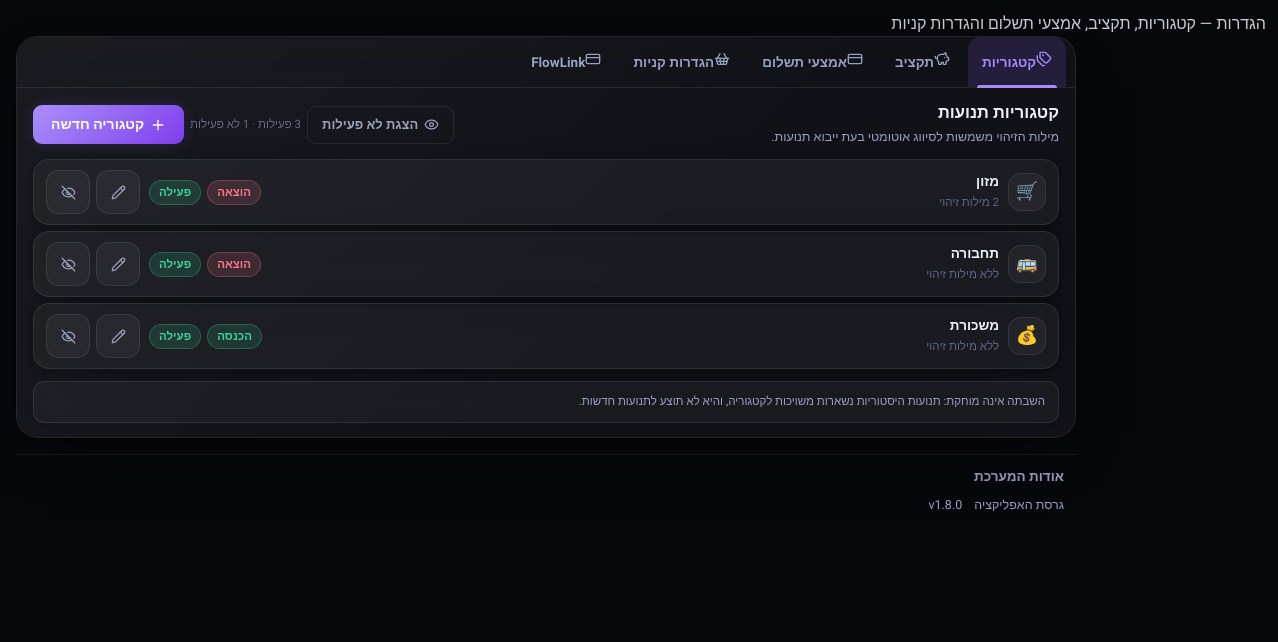
Test case: Budget settings › retains the unified policy and reports a failed change
The image size is (1278, 642).
expect the heading "מזון" is shown: met, box [976,172,999,192]
Click the tab "תקציב" at (923, 62), box [881,37,964,87]
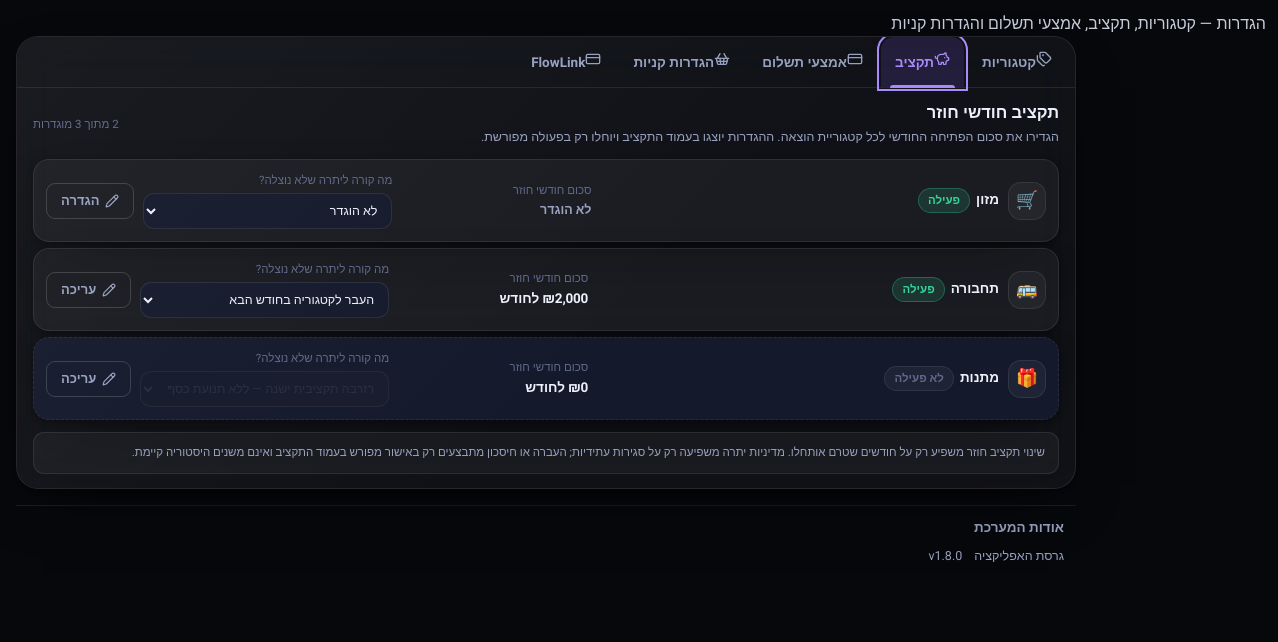
Select "החזר לכסף פנוי בחודש הבא" in the dropdown labelled "מה קורה ליתרה שלא נוצלה?" in the row of "לא הוגדר" at (268, 211), box [144,193,392,229]
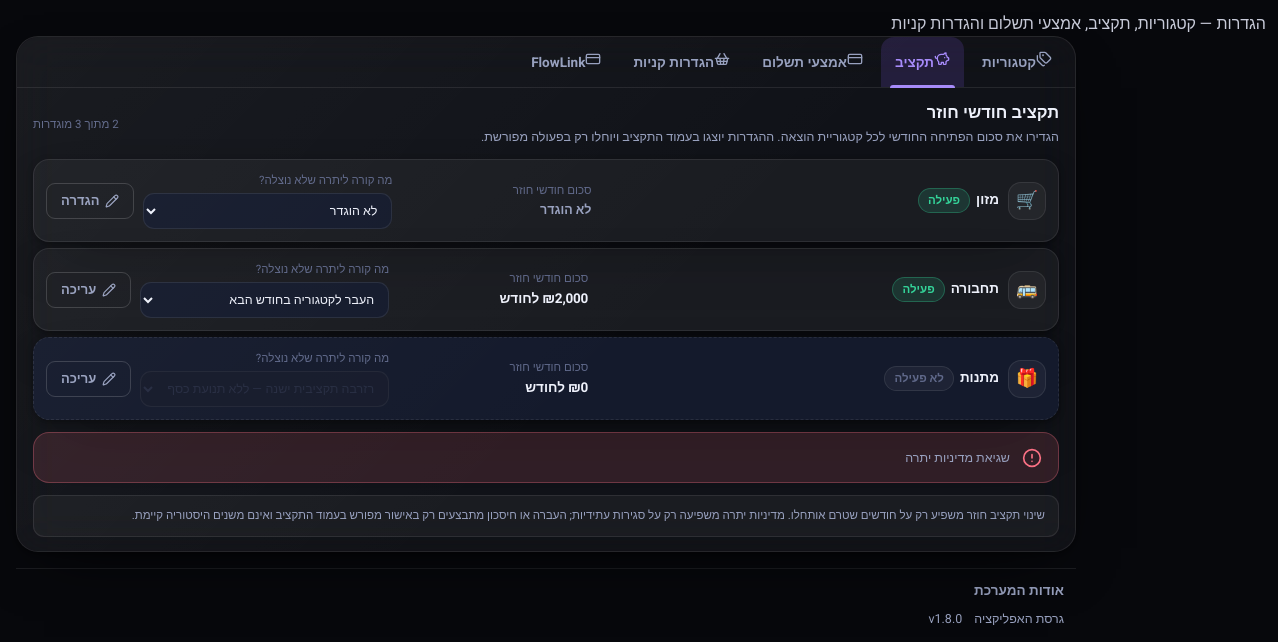
expect the text "שגיאת מדיניות יתרה" is shown: met, box [905,449,1010,467]
